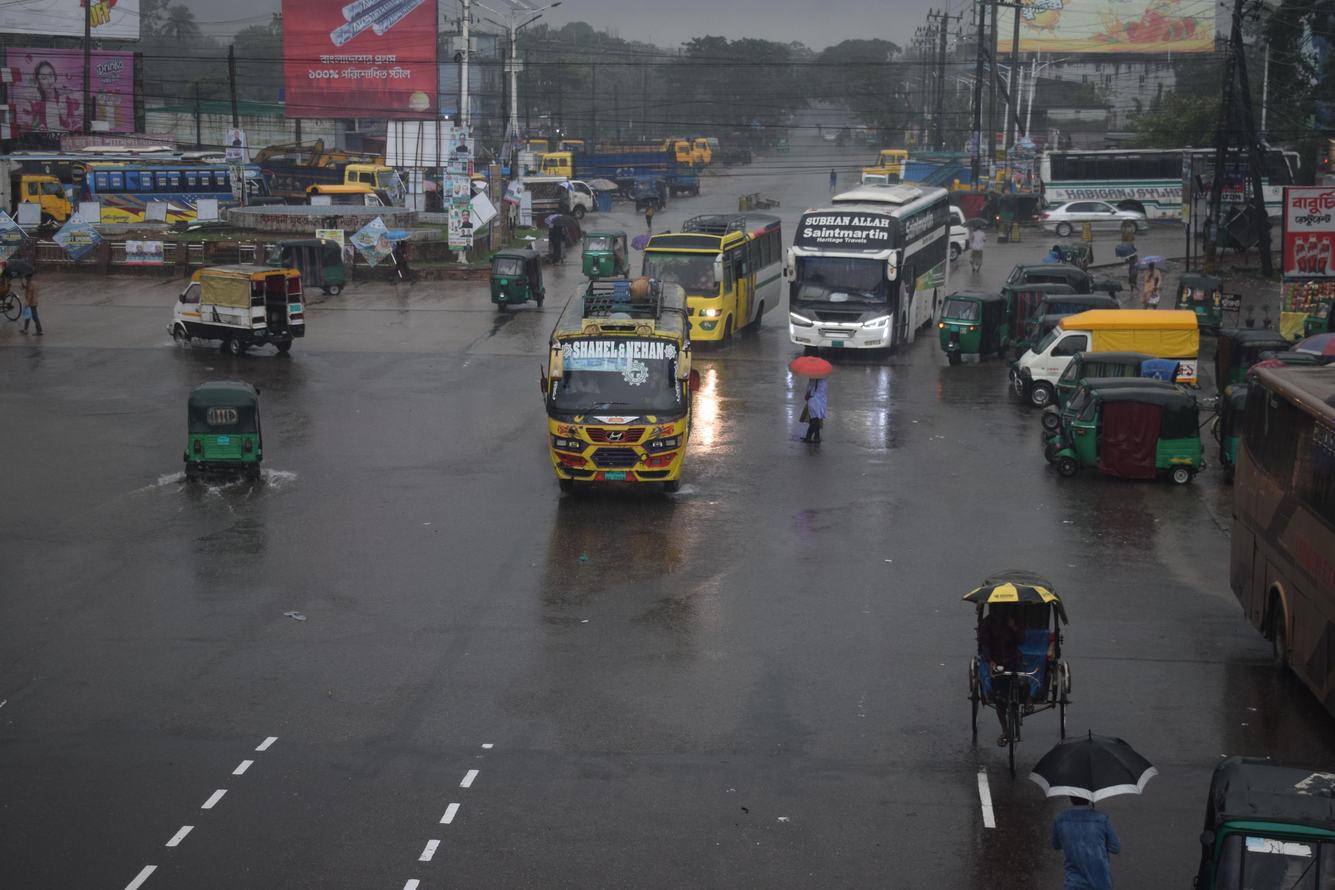Bus: (516, 255, 727, 531), (1207, 331, 1335, 744), (1015, 111, 1318, 268), (771, 163, 971, 394), (617, 199, 804, 368), (54, 143, 261, 261)
Car: (910, 510, 1118, 823)
Truck: (517, 129, 684, 221)
